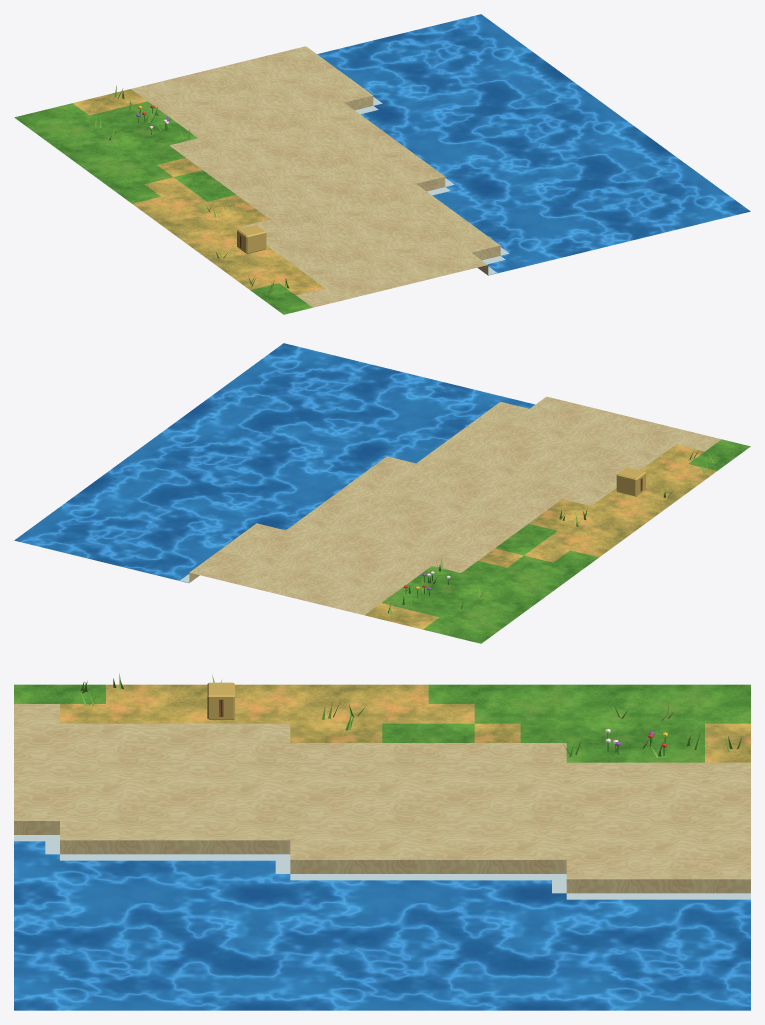
Rendered from chunk_11_12.glb.
3 renders of one model, top to bottom at view 1: azimuth 30°, elevation 25°; view 2: azimuth 150°, elevation 25°; view 3: azimuth 270°, elevation 25°, orthographic. The views are drawn at different scales.
Parts seen in each view (by area): view 1: chunk_11_12; view 2: chunk_11_12; view 3: chunk_11_12.
Part boxes in pixels (left/top/right/bottom): chunk_11_12: left=14, top=14, right=750, bottom=314; chunk_11_12: left=14, top=343, right=750, bottom=643; chunk_11_12: left=14, top=673, right=750, bottom=1010.
Bounding box in the file's own units: 16 × 0.95 × 16.
Materials: 13 (6 with a texture image).
